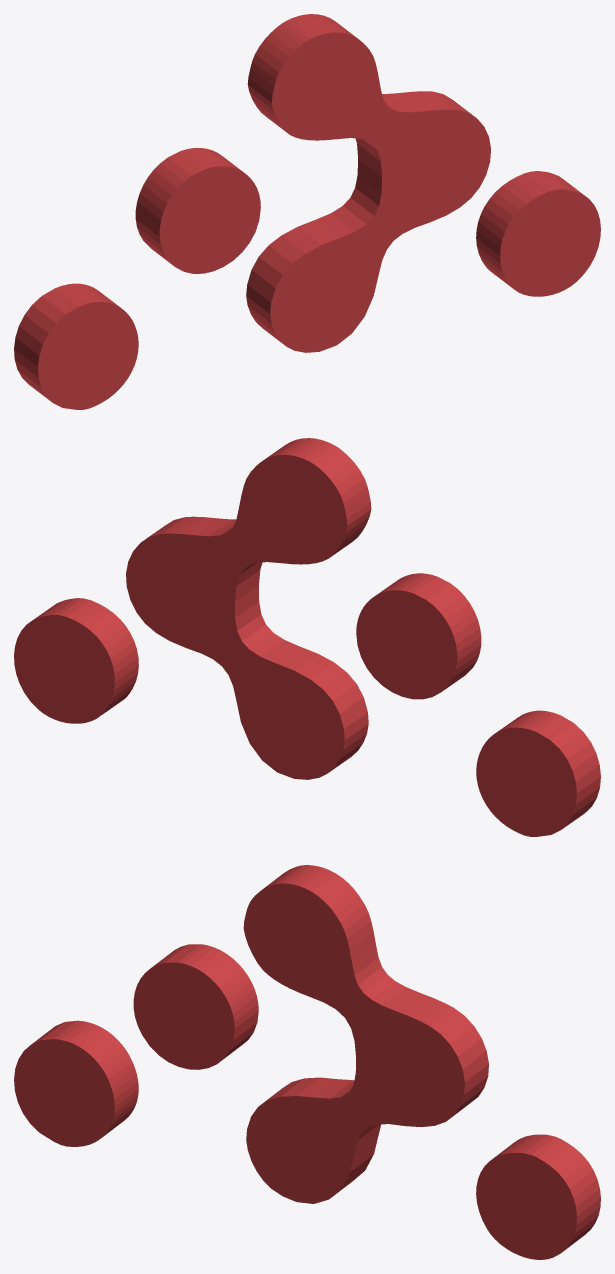
The model's file is Reactrouter_model.glb.
3 views of the same model, one above another, from view 1: azimuth 30°, elevation 25°; view 2: azimuth 150°, elevation 25°; view 3: azimuth 330°, elevation 25° (orthographic).
Visible parts, largest first — view 1: Curve; view 2: Curve; view 3: Curve.
Part boxes in pixels (x1=…): Curve: x1=14, y1=14, x2=600, y2=409; Curve: x1=14, y1=438, x2=600, y2=836; Curve: x1=14, y1=865, x2=600, y2=1259.
Size of the model in its own units: 0.6773 by 0.3693 by 0.0566.
